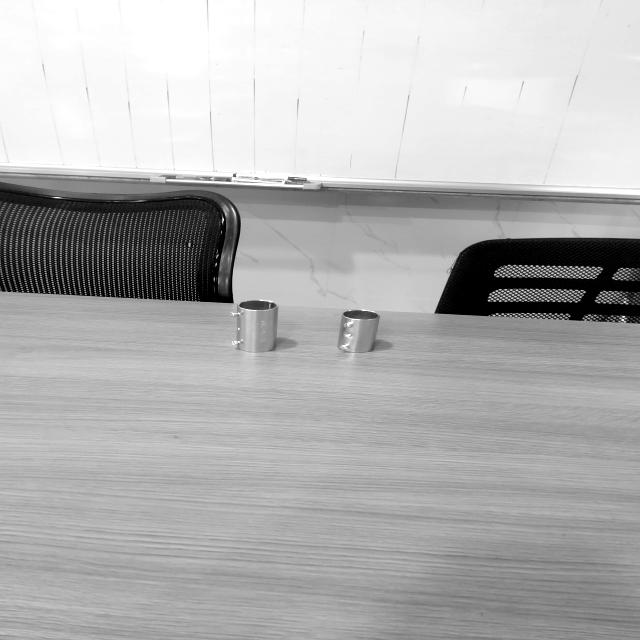Co_Lon: (232, 299, 278, 354)
Co_Nho: (337, 308, 380, 356)
